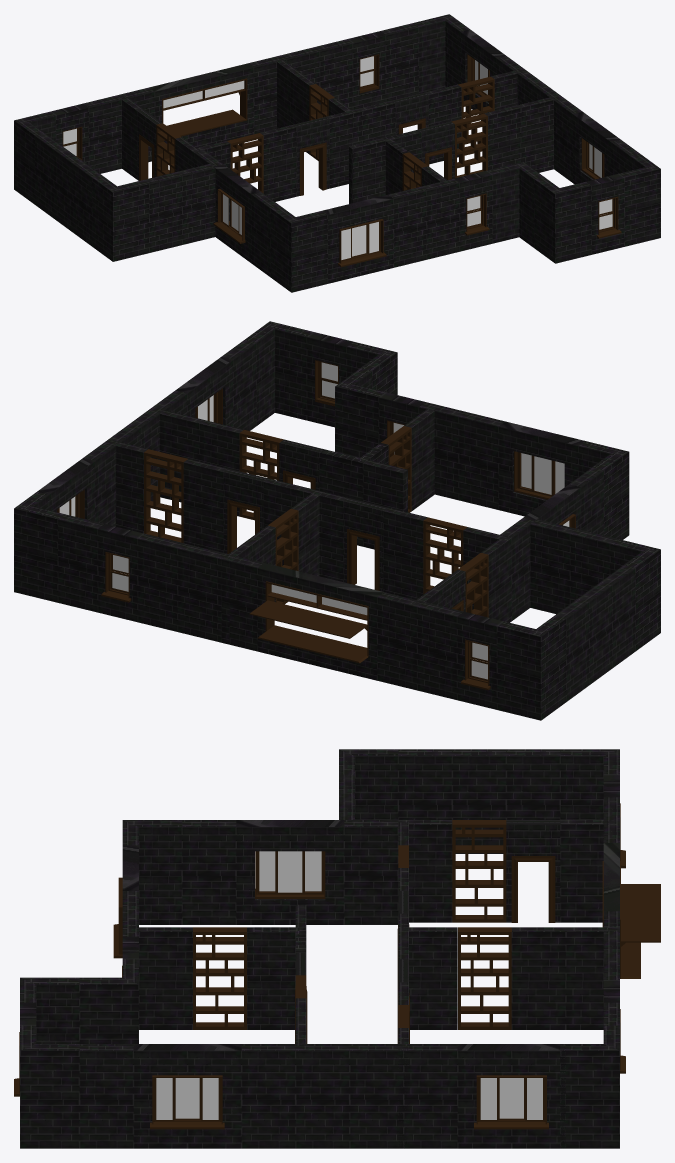
File: final blocking layout.fbx
The picture shows the model from 3 angles, top to bottom: view 1: azimuth 30°, elevation 25°; view 2: azimuth 150°, elevation 25°; view 3: azimuth 270°, elevation 25°; orthographic projection. The views are drawn at different scales.
Visible parts, largest first — view 1: Cube.129; view 2: Cube.129; view 3: Cube.129.
Part boxes in pixels (x1,y1,x2,y2): Cube.129: (14, 14, 660, 292); Cube.129: (14, 321, 660, 720); Cube.129: (14, 749, 660, 1148).
Bounding box in the file's own units: 2674 × 400 × 2395.
